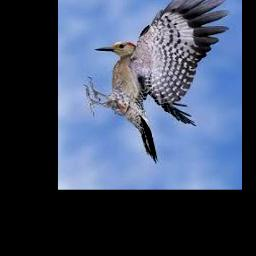Woodpecker: (84, 0, 229, 163)
